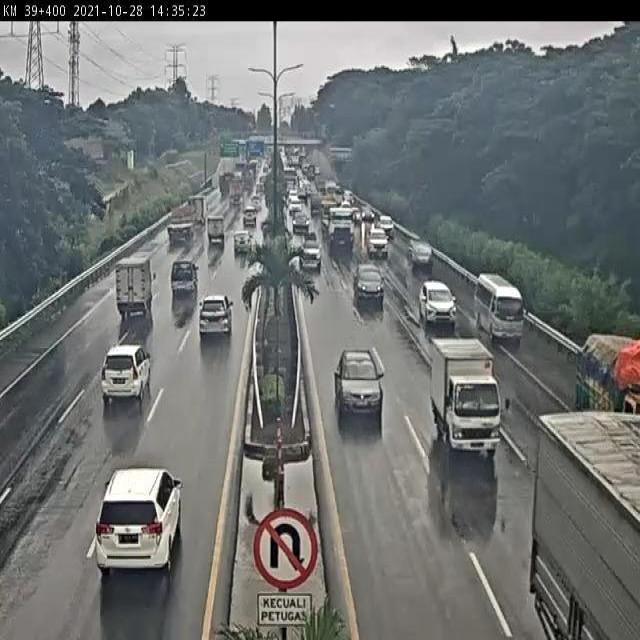big truck: (532, 404, 640, 640), (89, 340, 160, 423), (321, 211, 356, 261)
car: (74, 456, 191, 595), (105, 259, 154, 329), (338, 352, 383, 425), (162, 252, 201, 307), (416, 274, 457, 322), (194, 291, 234, 340), (352, 265, 386, 307), (293, 227, 326, 269), (369, 220, 395, 261), (200, 213, 226, 250), (406, 240, 437, 271), (229, 233, 254, 267), (242, 210, 258, 233)
small bus: (476, 274, 528, 342)
small truck: (429, 340, 504, 455), (576, 327, 640, 413), (162, 201, 195, 251)
